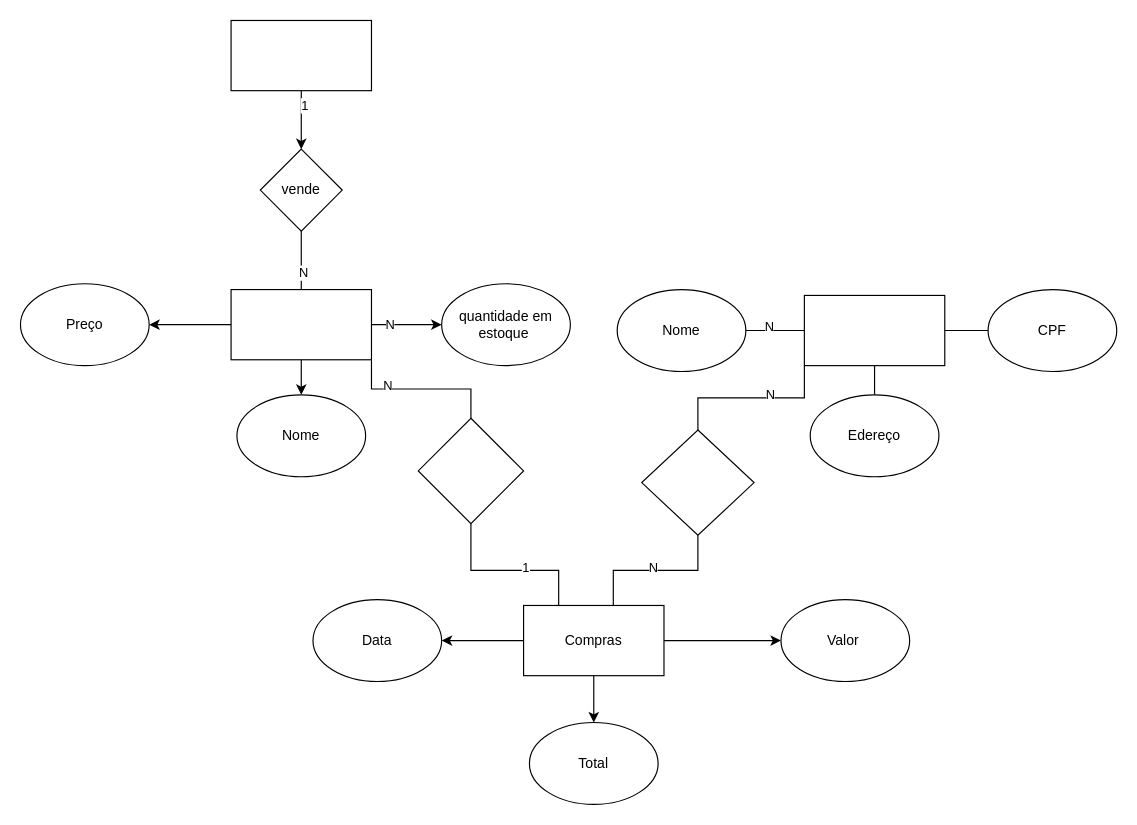
This 1137x825 diagram has some shape labels left out. Each missing label, with the centre of its shape:
Clientes: the point at 874,330
disponiveis para: the point at 470,470
Loja: the point at 300,55
podem fazer: the point at 697,482
Produtos: the point at 300,324
